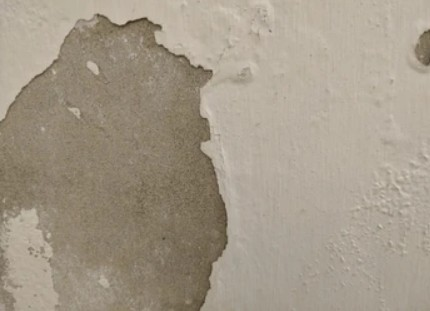wall_peeling: (3, 7, 227, 311), (409, 17, 430, 75)
